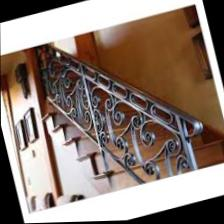Bench: (38, 68, 224, 223)
